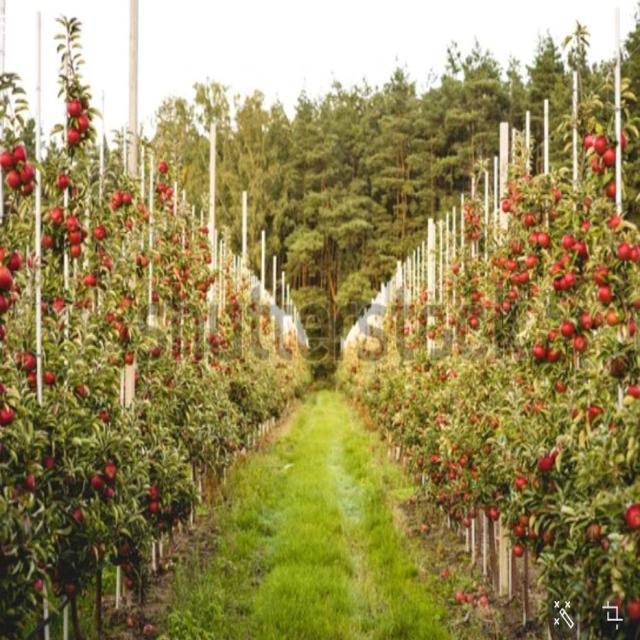row: (104, 386, 535, 640)
